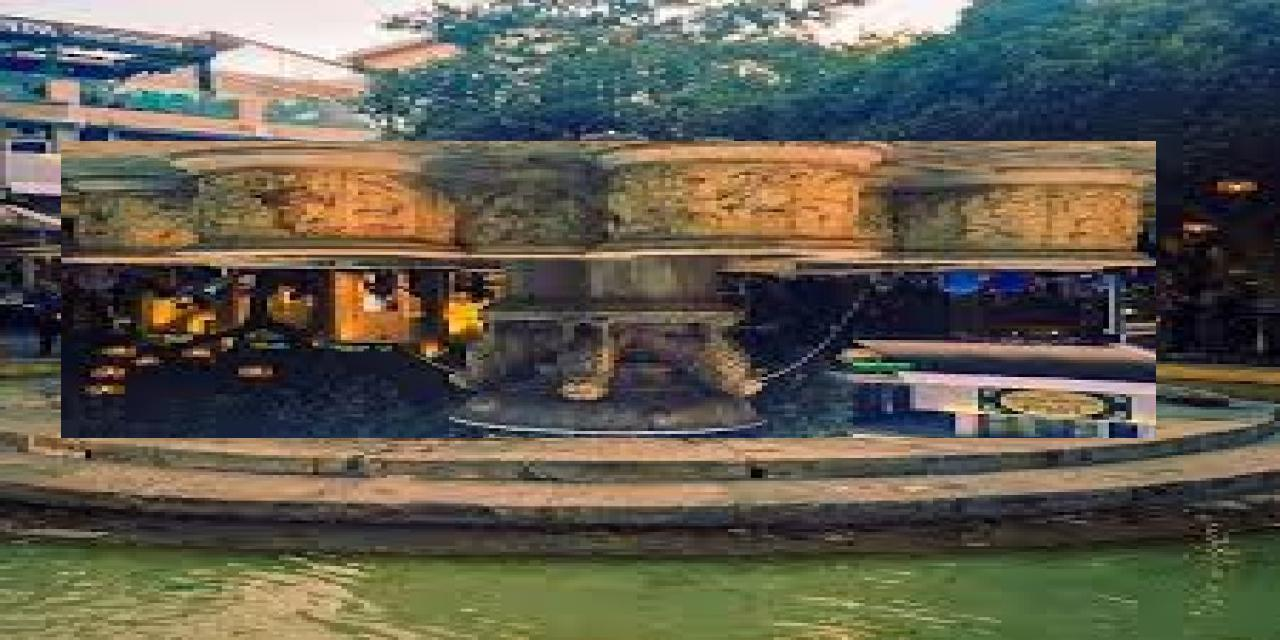Liontaria: (62, 142, 1157, 439)
